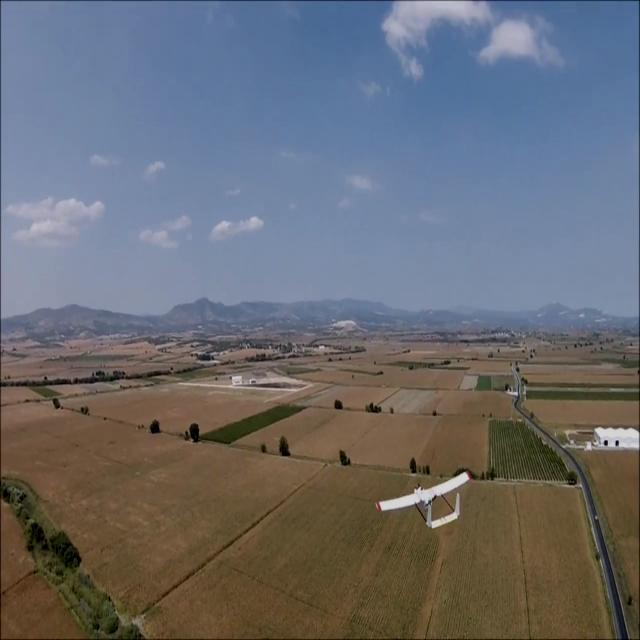iha: (407, 470, 438, 528)
